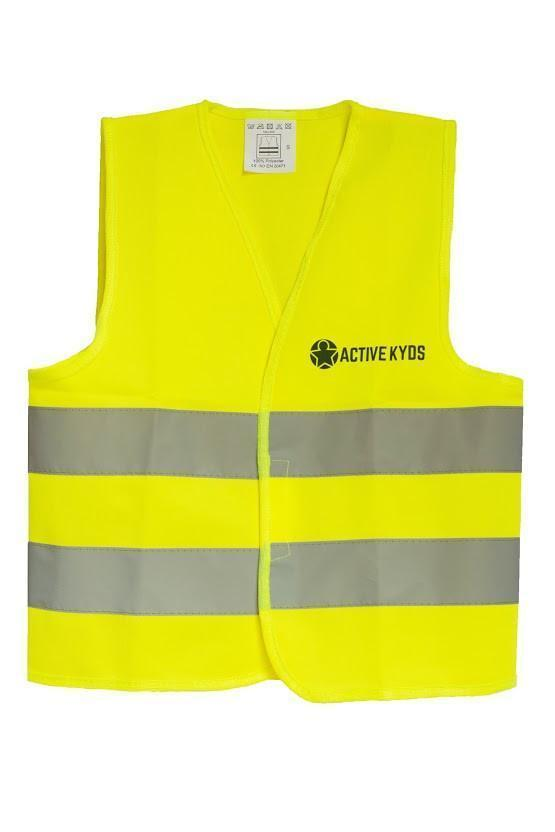vest: (29, 81, 525, 707)
